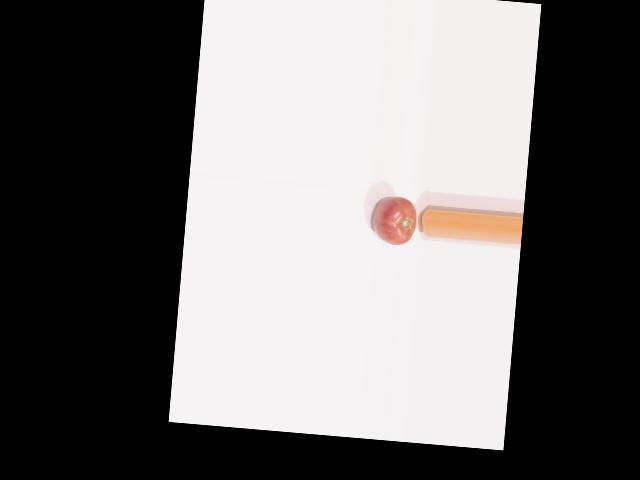tomato: (371, 195, 417, 247)
